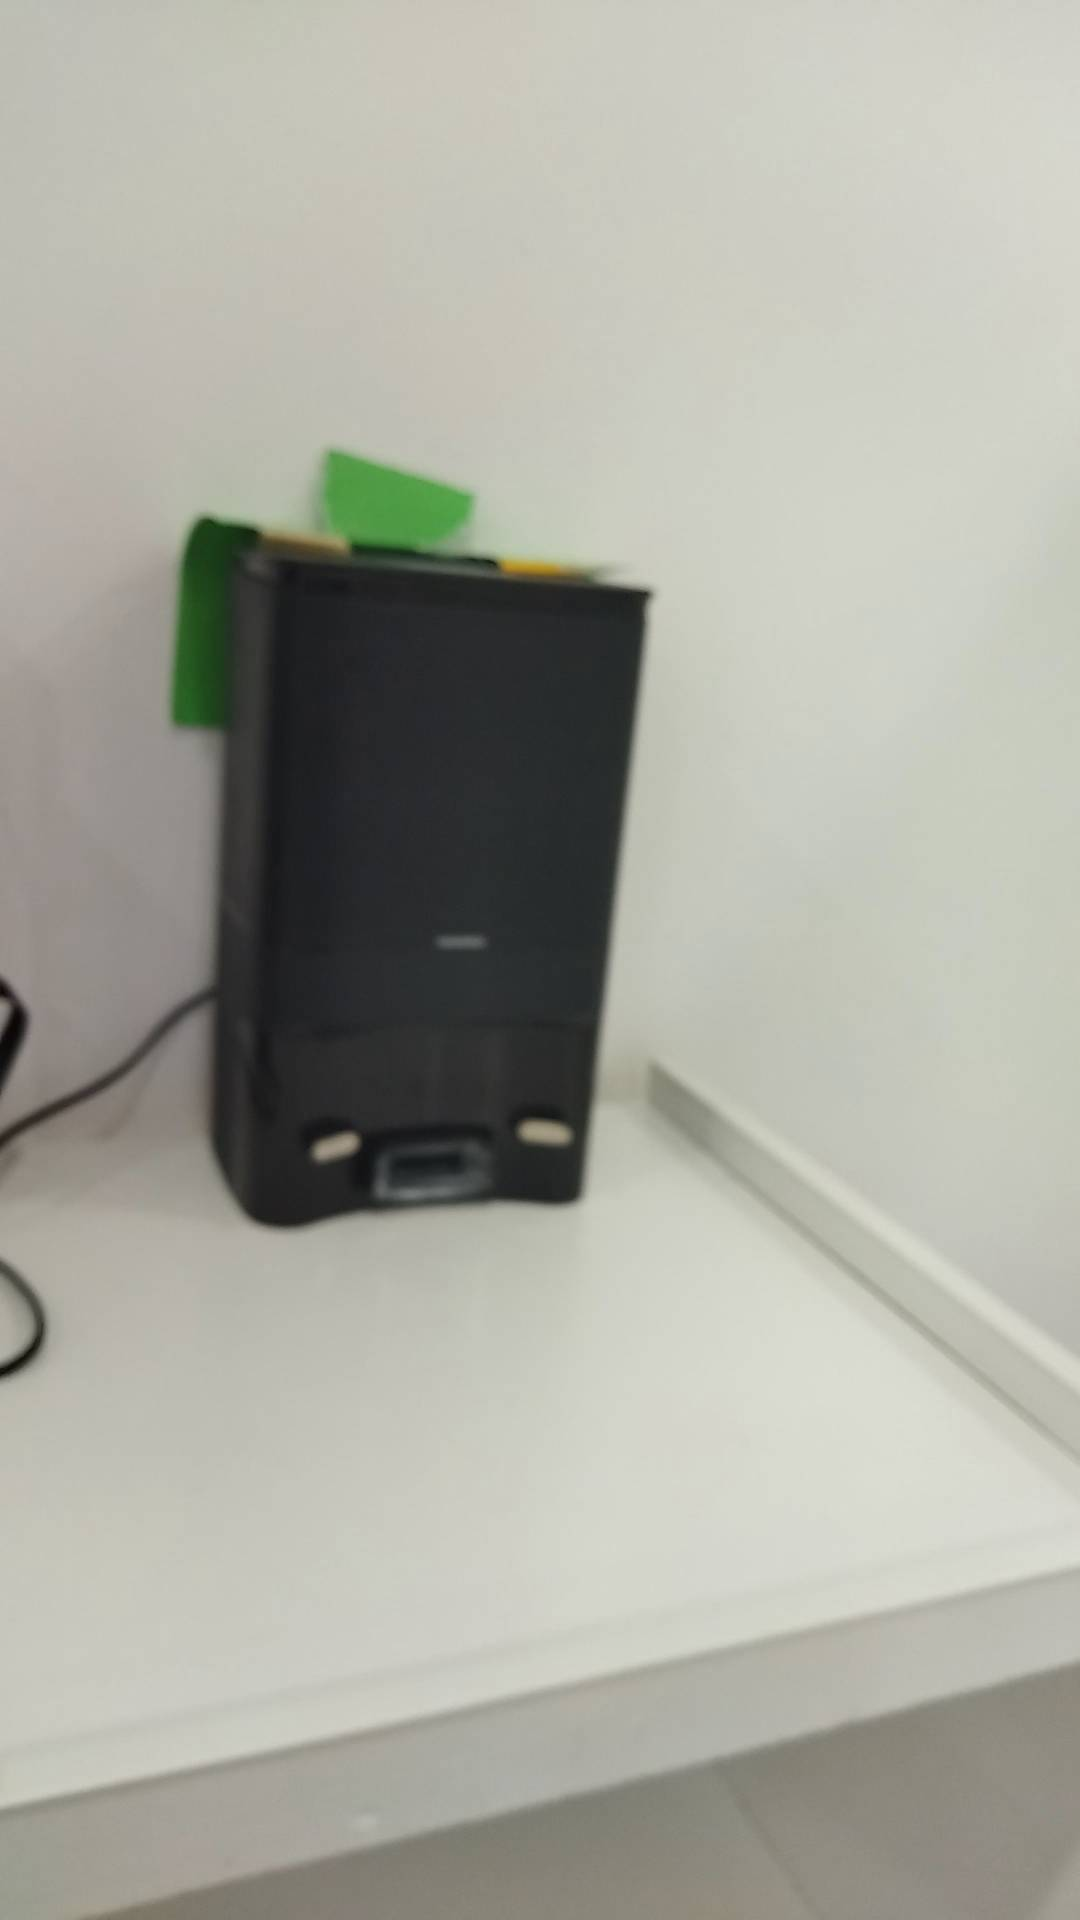dust collecting barrel: (208, 545, 654, 1228)
